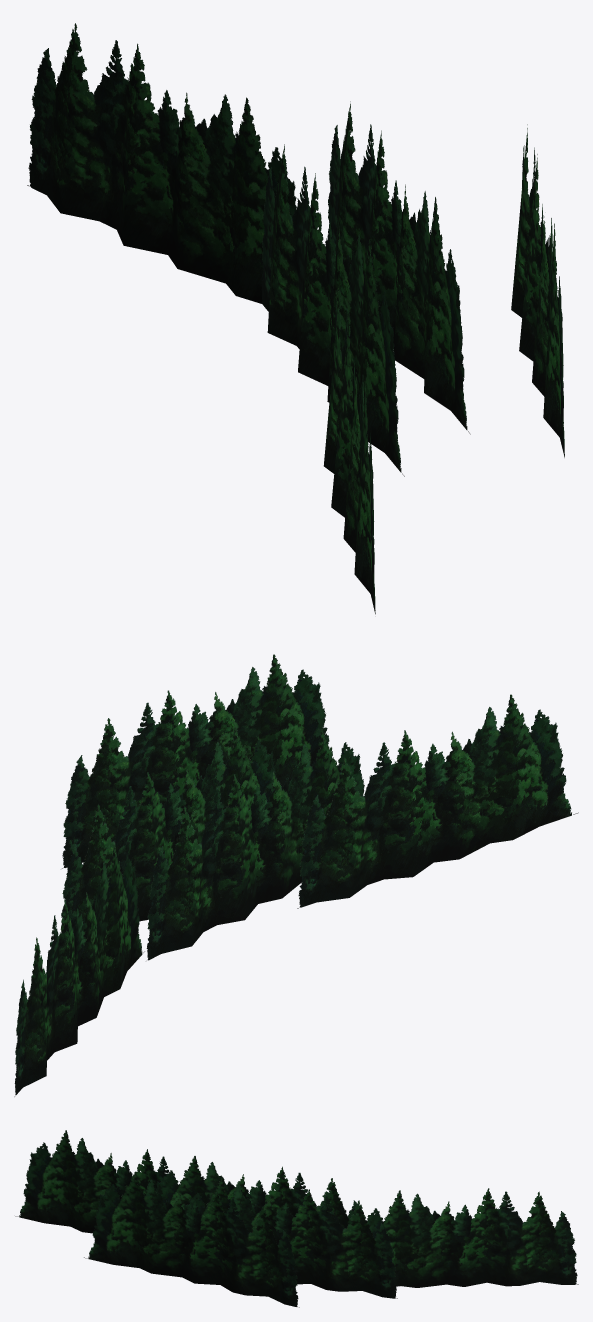
3 views of the same model, one above another, from view 1: azimuth 30°, elevation 25°; view 2: azimuth 150°, elevation 25°; view 3: azimuth 270°, elevation 25° (orthographic). The views are drawn at different scales.
Visible parts, largest first — view 1: sa00zkic04_001_001; view 2: sa00zkic04_001_001; view 3: sa00zkic04_001_001.
Part boxes in pixels (x1=…): sa00zkic04_001_001: x1=27, y1=23, x2=564, y2=614; sa00zkic04_001_001: x1=14, y1=654, x2=578, y2=1096; sa00zkic04_001_001: x1=15, y1=1130, x2=578, y2=1307.
Bounding box in the file's own units: 67.09 × 41.1 × 153.
Materials: 1 (1 with a texture image).
